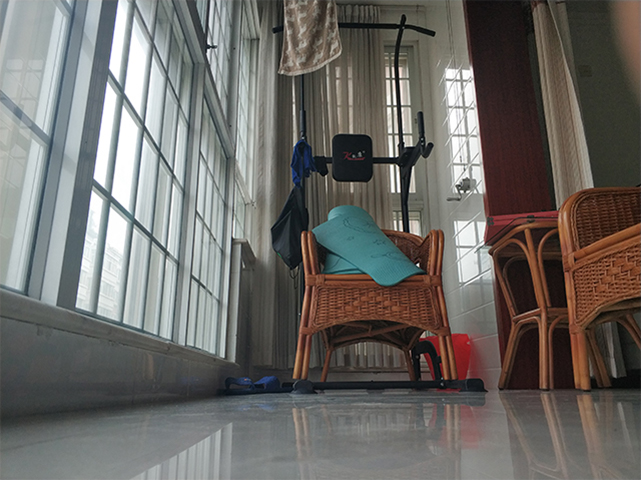slippers: (254, 374, 294, 393), (211, 376, 251, 395)
stool: (289, 227, 459, 387)
table: (487, 220, 574, 390)
